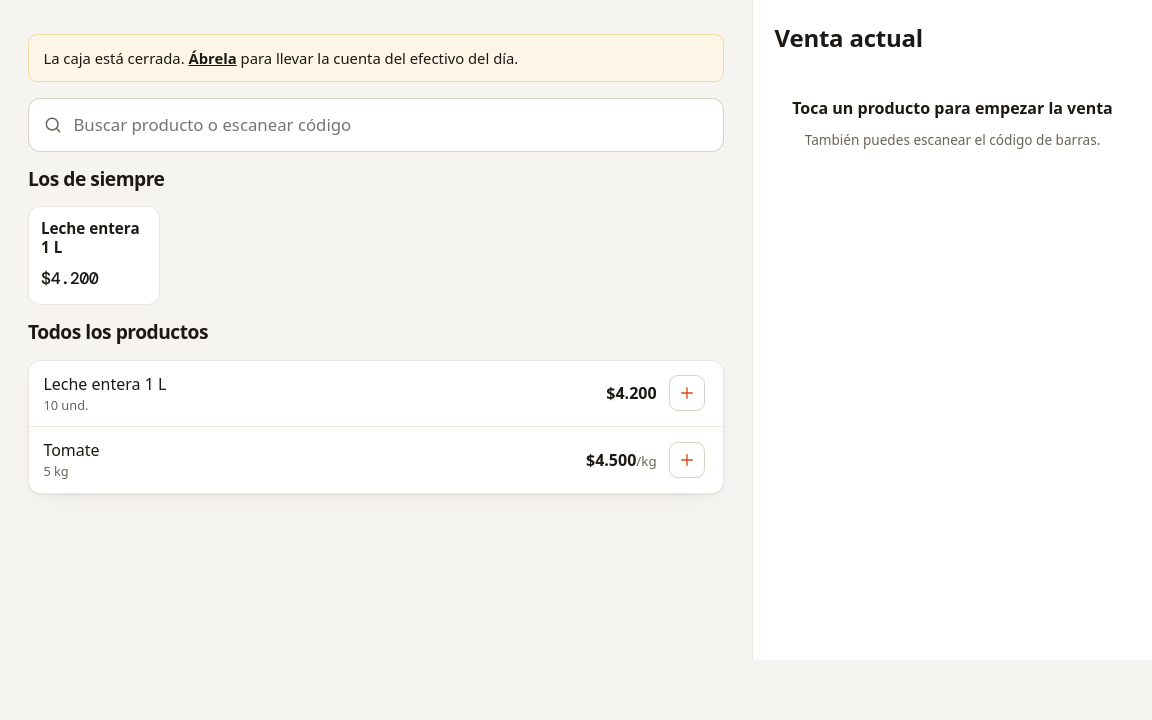
Test: pantalla Vender › vende un producto favorito en efectivo y muestra el cambio
Click the button "Leche entera 1 L $4.200". click: x=94, y=256
box: [28, 206, 160, 306]
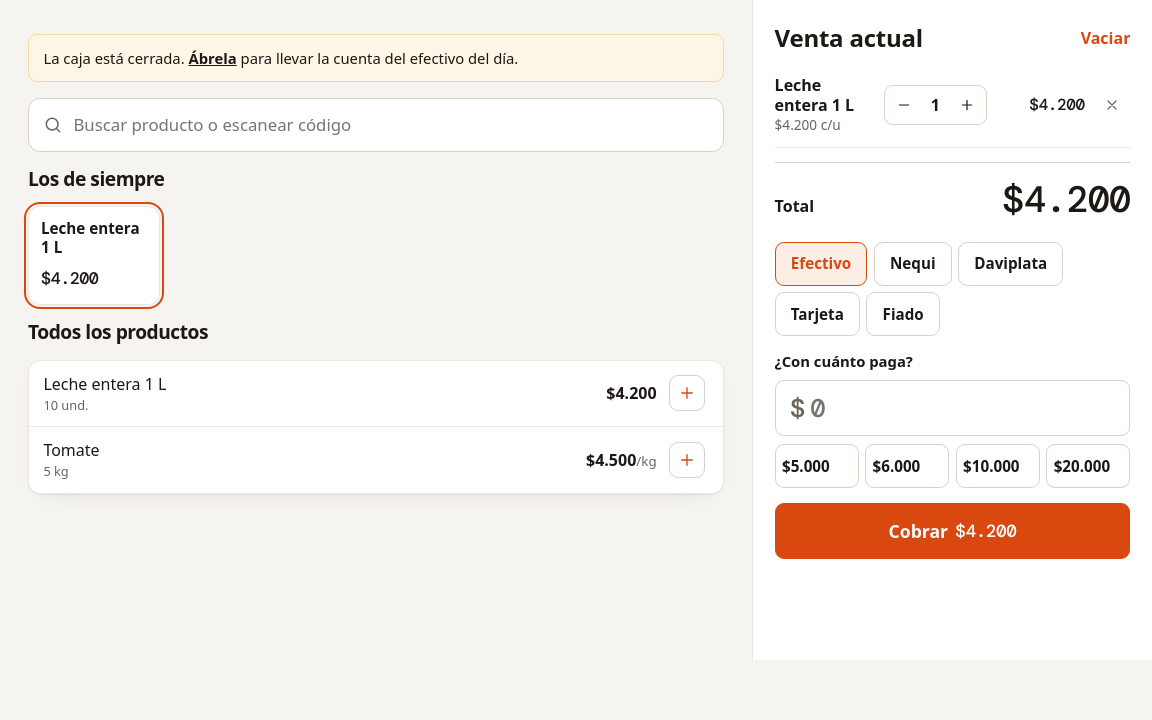
Click the button named "Agregar una unidad de Leche". click: x=967, y=105
box: [948, 86, 986, 124]
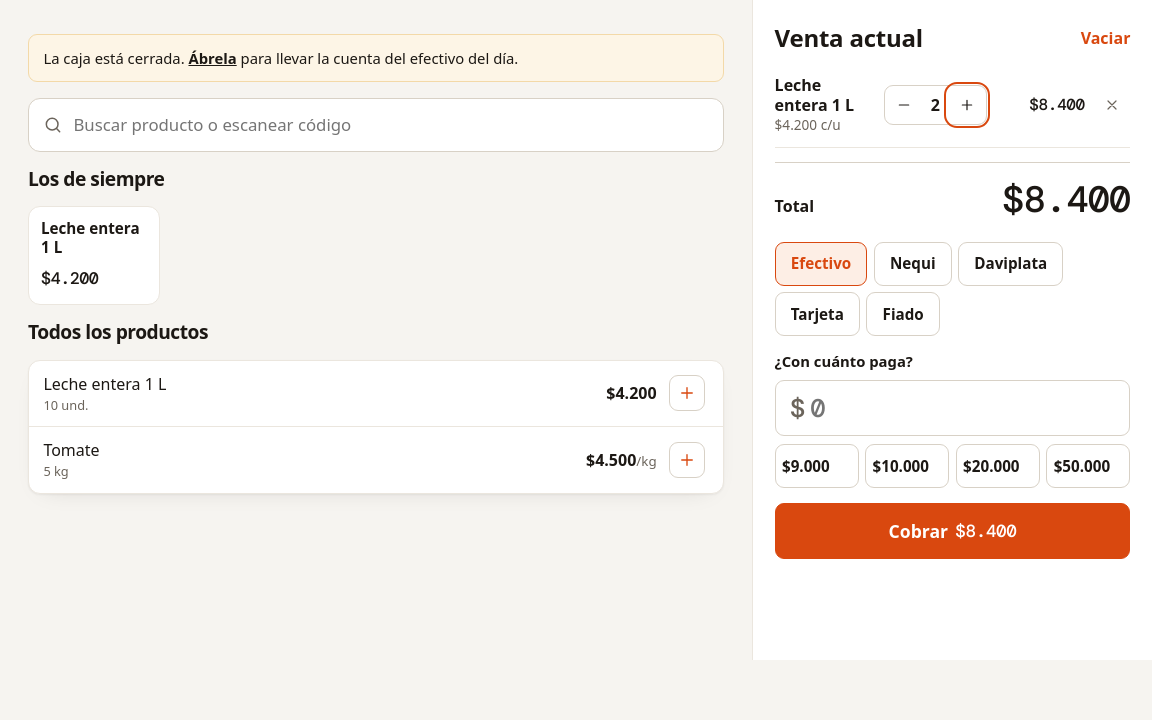
Result: the text "$8.400" in the row of "c/u" is shown at [1029, 94, 1085, 115]
Type "10000" into the field labelled "¿Con cuánto paga?". click: x=963, y=408
box: [810, 392, 1115, 425]
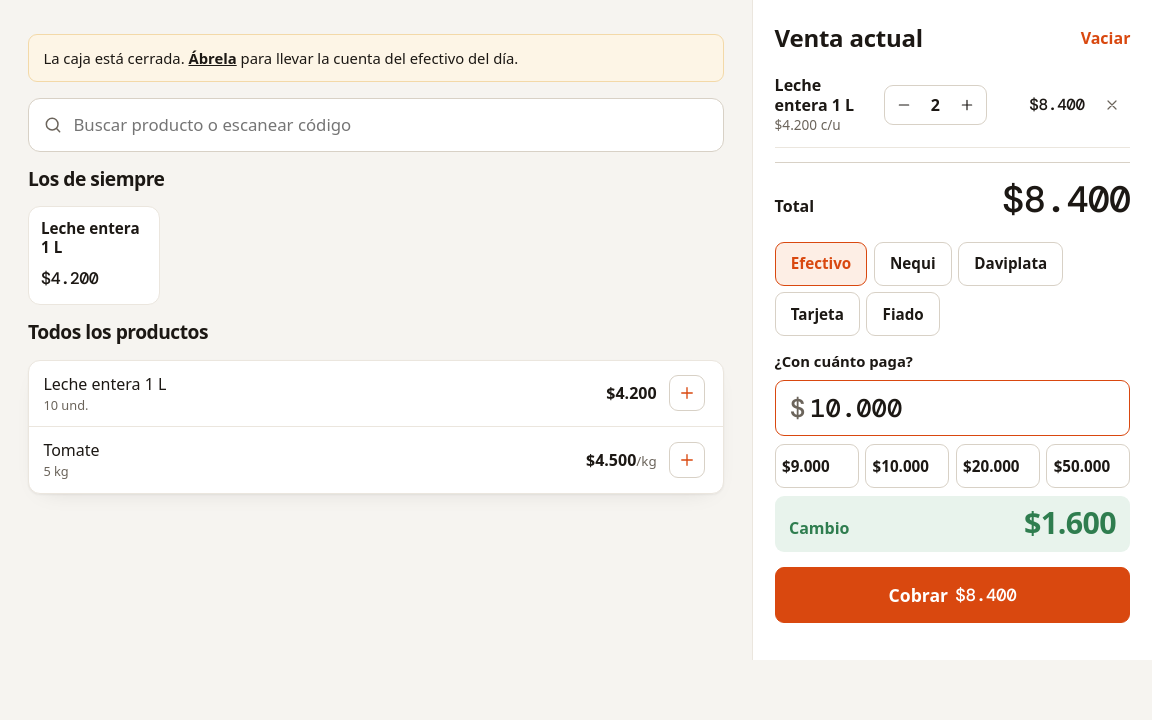
Click the button "Cobrar $8.400". click: x=952, y=595
box: [775, 567, 1130, 623]
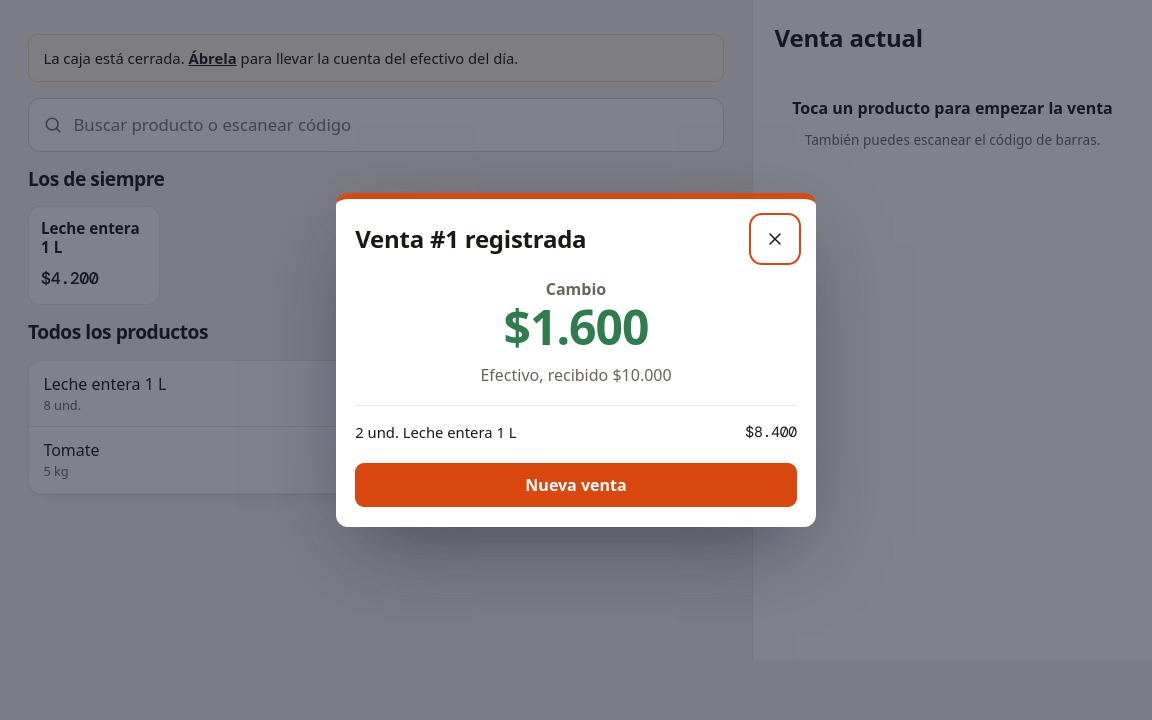
Result: the text "$1.600" is shown at [503, 294, 649, 359]
Result: the heading "Venta #1 registrada" is shown at [355, 225, 586, 253]
